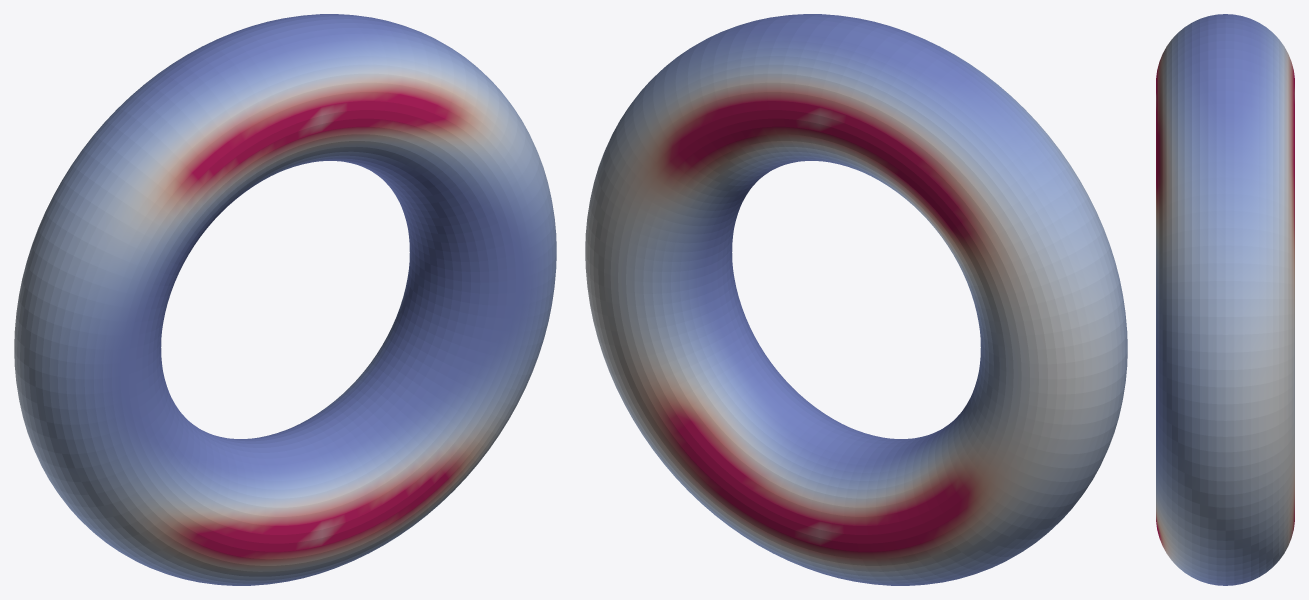
3 views of the same model, side by side, from view 1: azimuth 30°, elevation 25°; view 2: azimuth 150°, elevation 25°; view 3: azimuth 270°, elevation 25° (orthographic). The views are drawn at different scales.
Visible parts, largest first — view 1: world; view 2: world; view 3: world.
Boxes of the visible parts, x1=… form: world: x1=14, y1=14, x2=556, y2=585; world: x1=585, y1=14, x2=1127, y2=585; world: x1=1156, y1=14, x2=1294, y2=585.
Size of the model in its own units: 20.27 by 20.27 by 4.92.
